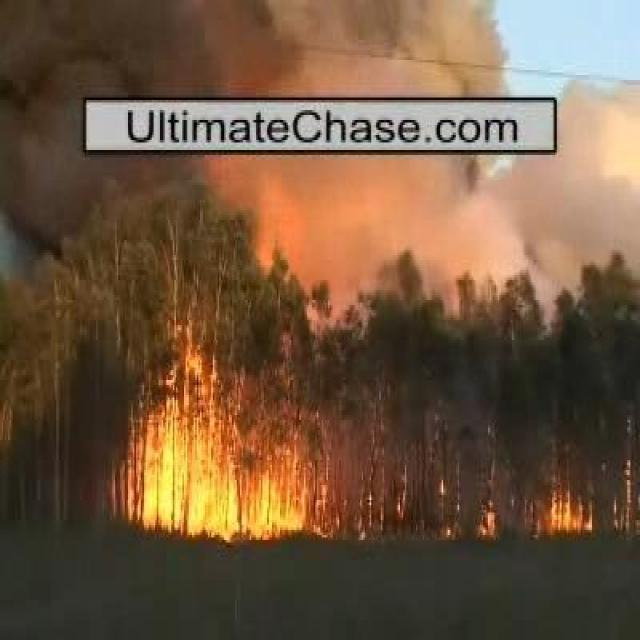fire: (138, 394, 296, 544)
smoke: (79, 0, 500, 92), (261, 155, 586, 263)
